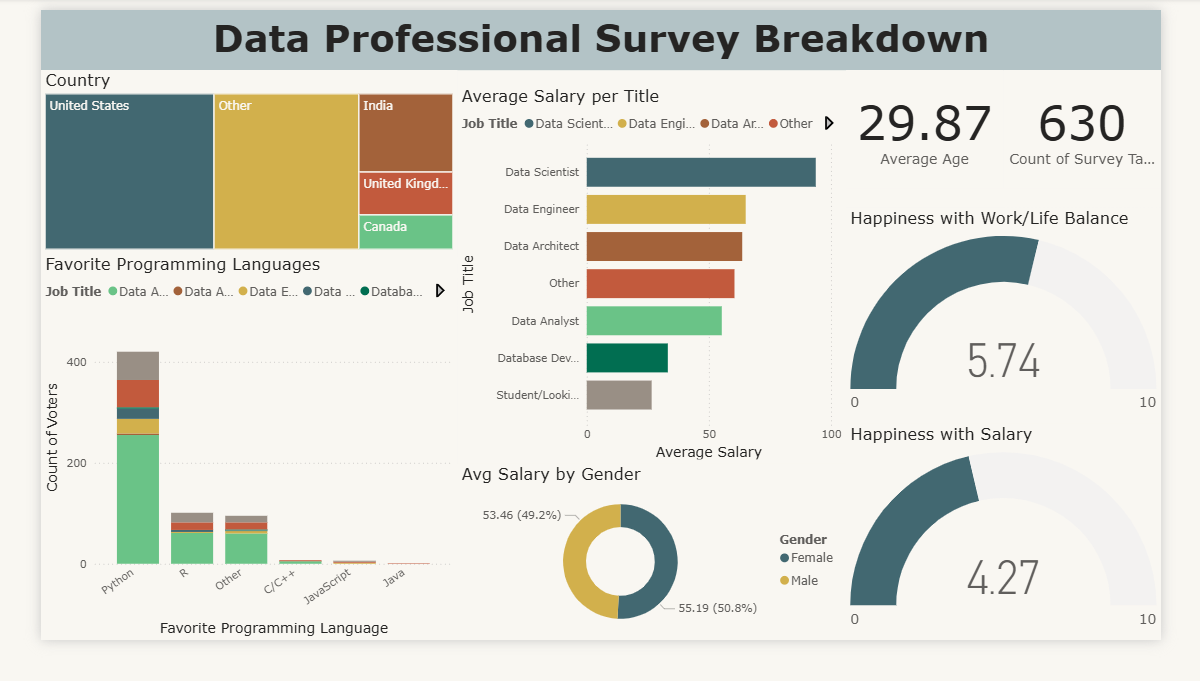

Layout of this report page (visuals, bound fields, positions):
{"tool":"powerbi","page":{"name":"Page 1","canvas":[1280,720],"ordinal":0},"visuals":[{"type":"textbox","box":[0,0,1280.3,68.6],"z":0},{"type":"card","title":"Count of Survey Takers","fields":{"Values":["Count(Data Professional Survey.Unique ID)"]},"box":[1100,68.8,180,135],"z":1000},{"type":"card","fields":{"Values":["Avg(Data Professional Survey.Q10 - Current Age)"]},"box":[920,68.8,180,135],"z":2000},{"type":"barChart","title":"Average Salary per Title","fields":{"Category":["Data Professional Survey.Q1 - Which Title Best Fits your Current Role?.1"],"Y":["Avg(Data Professional Survey.Average Salary)"],"Series":["Data Professional Survey.Q1 - Which Title Best Fits your Current Role?.1"]},"box":[475.7,87.1,444.3,431.4],"z":3000},{"type":"columnChart","title":"Favorite Programming Languages","fields":{"Y":["CountNonNull(Data Professional Survey.Unique ID)"],"Category":["Data Professional Survey.Q5 - Favorite Programming Language.1"],"Series":["Data Professional Survey.Q1 - Which Title Best Fits your Current Role?.1"]},"box":[0,278.6,475.7,441.4],"z":4000},{"type":"treemap","title":"Country","fields":{"Group":["Data Professional Survey.Q11 - Which Country do you live in?.1"],"Values":["CountNonNull(Data Professional Survey.Q11 - Which Country do you live in?.1)"]},"box":[0,68.6,475.7,210],"z":5000},{"type":"gauge","title":"Happiness with Work/Life Balance","fields":{"MinValue":["Min(Data Professional Survey.Q6 - How Happy are you in your Current Position with the following? (Work/Life Balance))"],"Y":["Avg(Data Professional Survey.Q6 - How Happy are you in your Current Position with the following? (Work/Life Balance))"],"MaxValue":["Max(Data Professional Survey.Q6 - How Happy are you in your Current Position with the following? (Work/Life Balance))"]},"box":[920,225.7,360,247.1],"z":6000},{"type":"gauge","title":"Happiness with Salary","fields":{"Y":["Avg(Data Professional Survey.Q6 - How Happy are you in your Current Position with the following? (Salary))"],"MinValue":["Min(Data Professional Survey.Q6 - How Happy are you in your Current Position with the following? (Salary))1"],"MaxValue":["Max(Data Professional Survey.Q6 - How Happy are you in your Current Position with the following? (Salary))2"]},"box":[920,472.9,360,247.1],"z":7000},{"type":"donutChart","fields":{"Y":["Avg(Data Professional Survey.Average Salary)"],"Category":["Data Professional Survey.Q9 - Male/Female?"]},"box":[475.7,518.6,444.3,201.4],"z":8000}]}

Visuals, with their boxes in screenshot pixels (x1, y1, x2, y2), scaled from the page's 1280x720 canvas onto the 1200x681 screenshot:
textbox: <region>0, 0, 1199, 65</region>
"Count of Survey Takers" card: <region>1031, 65, 1199, 193</region>
card - Avg(Data Professional Survey.Q10 - Current Age): <region>862, 65, 1031, 193</region>
"Average Salary per Title" barChart: <region>446, 82, 862, 490</region>
"Favorite Programming Languages" columnChart: <region>0, 264, 446, 680</region>
"Country" treemap: <region>0, 65, 446, 264</region>
"Happiness with Work/Life Balance" gauge: <region>862, 213, 1199, 447</region>
"Happiness with Salary" gauge: <region>862, 447, 1199, 680</region>
donutChart - Avg(Data Professional Survey.Average Salary) x Data Professional Survey.Q9 - Male/Female?: <region>446, 491, 862, 680</region>
